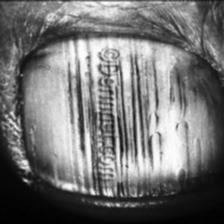Toxin: (20, 31, 224, 198)
